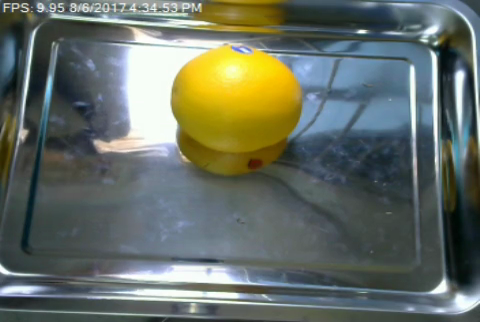Orange: (169, 43, 302, 153)
